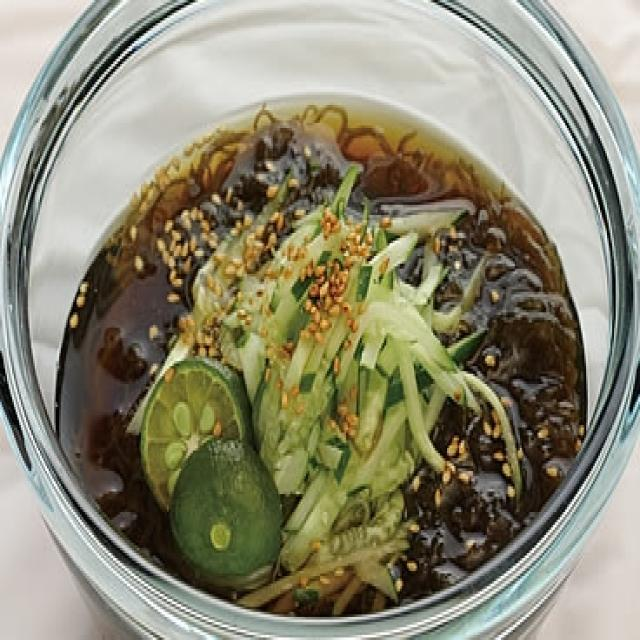蔬菜料理: (33, 38, 610, 635)
